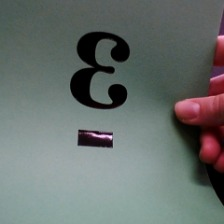green3: (65, 27, 138, 155)
